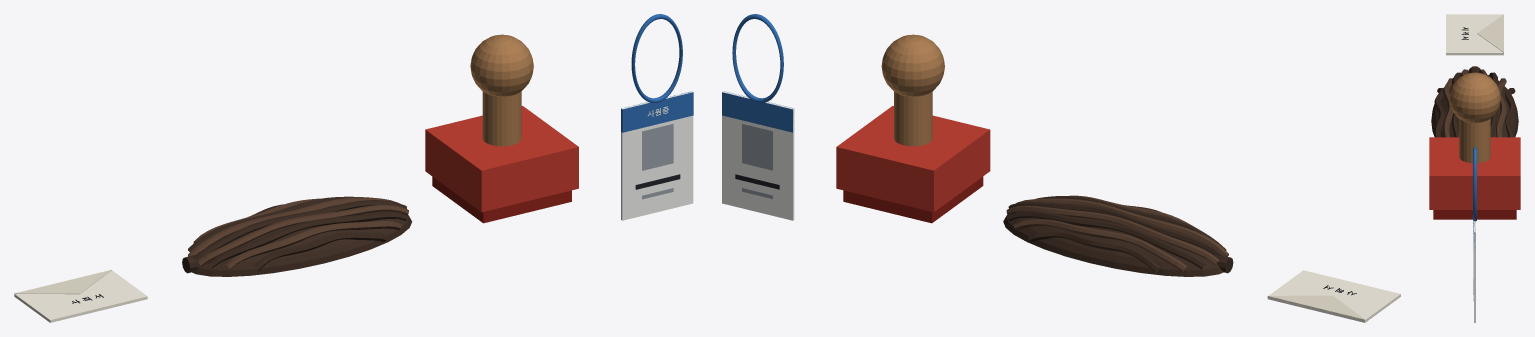
The model's file is props.glb.
3 renders of one model, left to right at view 1: azimuth 30°, elevation 25°; view 2: azimuth 150°, elevation 25°; view 3: azimuth 270°, elevation 25°, orthographic. The views are drawn at different scales.
Visible parts, largest first — view 1: stamp, wig, badge, envelope; view 2: stamp, wig, badge, envelope; view 3: stamp, wig, envelope, badge.
Boxes of the visible parts, x1,y1,x2,y2 form: stamp: [425, 34, 578, 223]; wig: [182, 196, 412, 276]; badge: [621, 14, 693, 220]; envelope: [14, 269, 147, 322]; stamp: [836, 34, 990, 223]; wig: [1003, 195, 1233, 276]; badge: [722, 14, 794, 220]; envelope: [1267, 270, 1400, 322]; stamp: [1429, 72, 1520, 219]; wig: [1431, 66, 1518, 137]; envelope: [1446, 14, 1503, 55]; badge: [1473, 147, 1476, 322].
Bounding box in the file's own units: 14.9 × 4.57 × 2.2.
